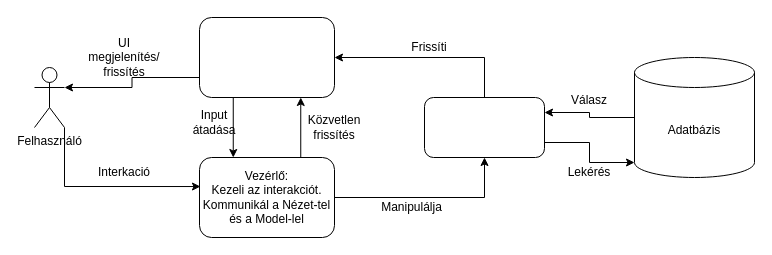
Image size: 772x255. Some labels were removed from this diagram. Each missing label, with the box of its shape:
Model: Megvalósítja az interakció mögötti logikát: (424, 96, 544, 158)
Nézet: Felhasználói felület megjelenítése. Gombok, Szövegek, Képek: (198, 16, 334, 98)
